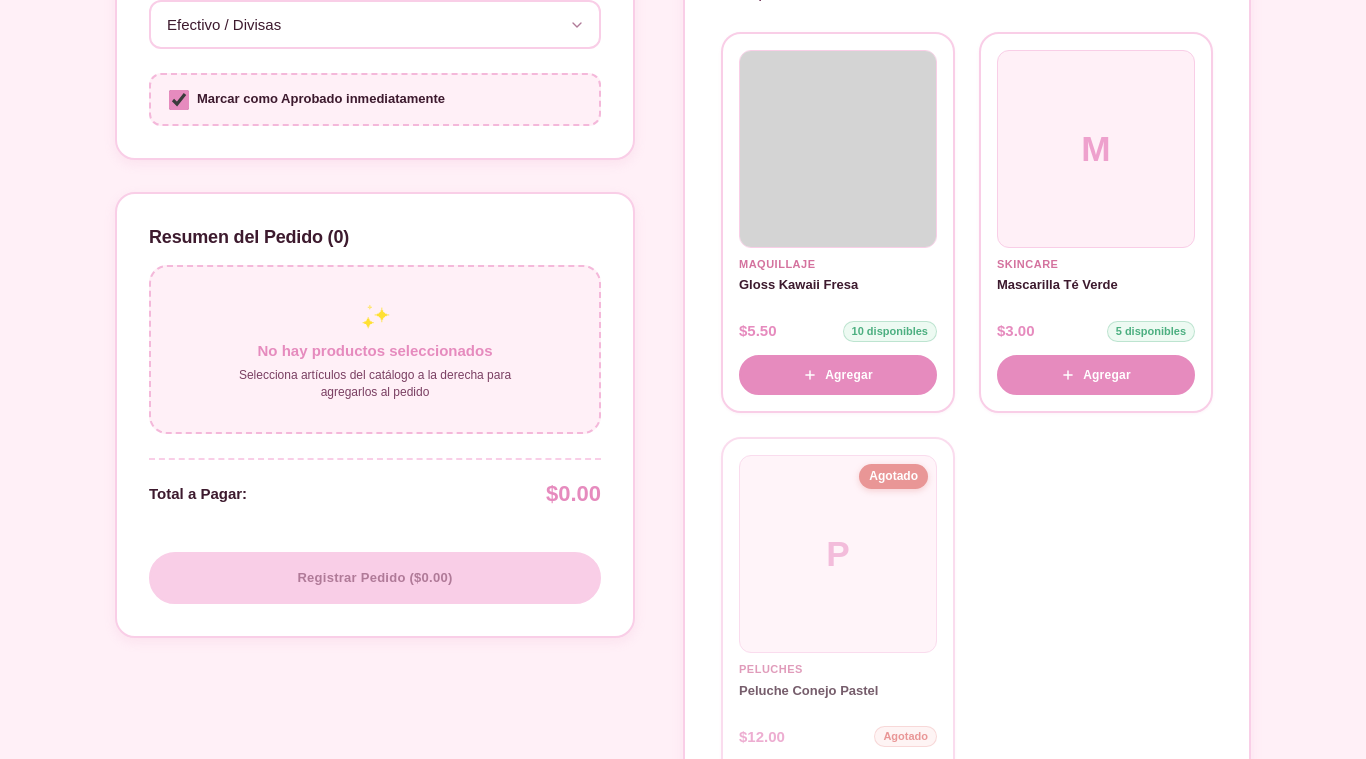
AdminCreateOrderPage › permite agregar productos, cambiar cantidad y calcular el total
The image size is (1366, 759).
(page scrolled)
Expected: the text "Gloss Kawaii Fresa" is shown, top-left (739, 277), bottom-right (858, 292)
Expected: the button "Registrar Pedido ($0.00)" is disabled, top-left (149, 552), bottom-right (601, 604)
Note: Agregar "Gloss Kawaii Fresa" ($5.50)
Click the button with aria-label "agregar gloss kawaii fresa". click: (838, 375)
box: top-left (739, 355), bottom-right (937, 395)
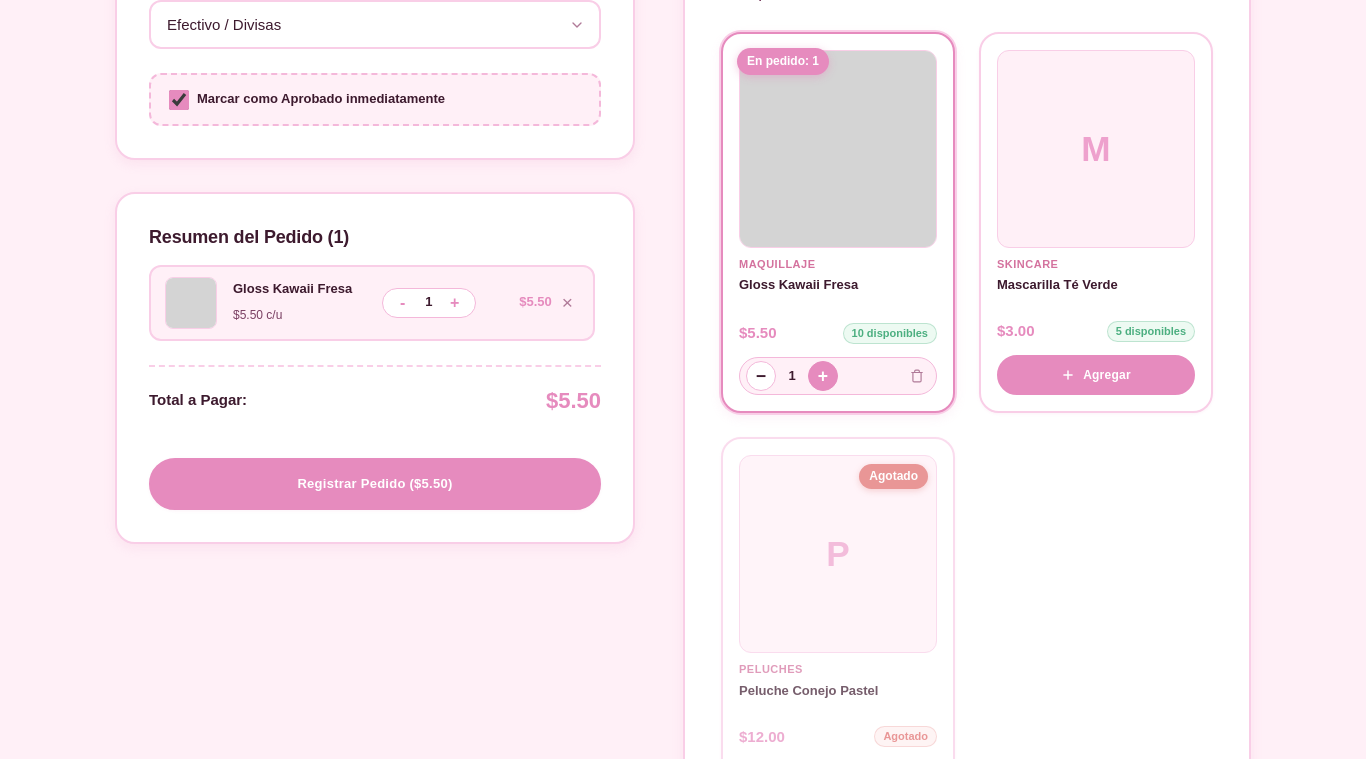
Now the element with test id "selected-item-101" is shown, box top-left (149, 265), bottom-right (595, 341)
Now the text "Gloss Kawaii Fresa" below "Resumen del Pedido (" is shown, box top-left (233, 281), bottom-right (352, 296)
Note: Incrementar cantidad a 2
Click the button named "aumentar cantidad de gloss kawaii fresa". click: (455, 303)
box: top-left (443, 291), bottom-right (467, 315)
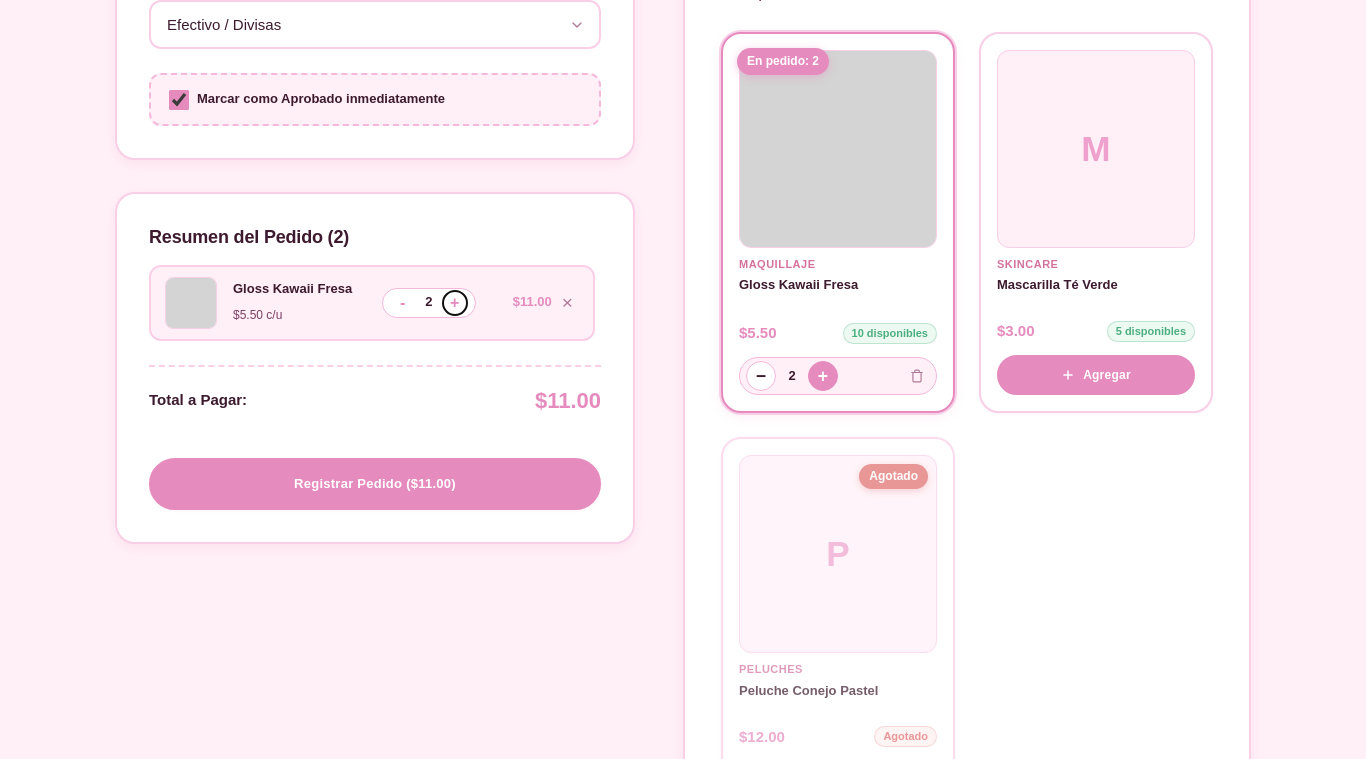
Now the button "Registrar Pedido ($11.00)" is shown, box top-left (149, 458), bottom-right (601, 510)
Note: Agregar "Mascarilla Té Verde" ($3.00)
Click the button with aria-label "agregar mascarilla té verde". click: (1096, 375)
box: top-left (997, 355), bottom-right (1195, 395)
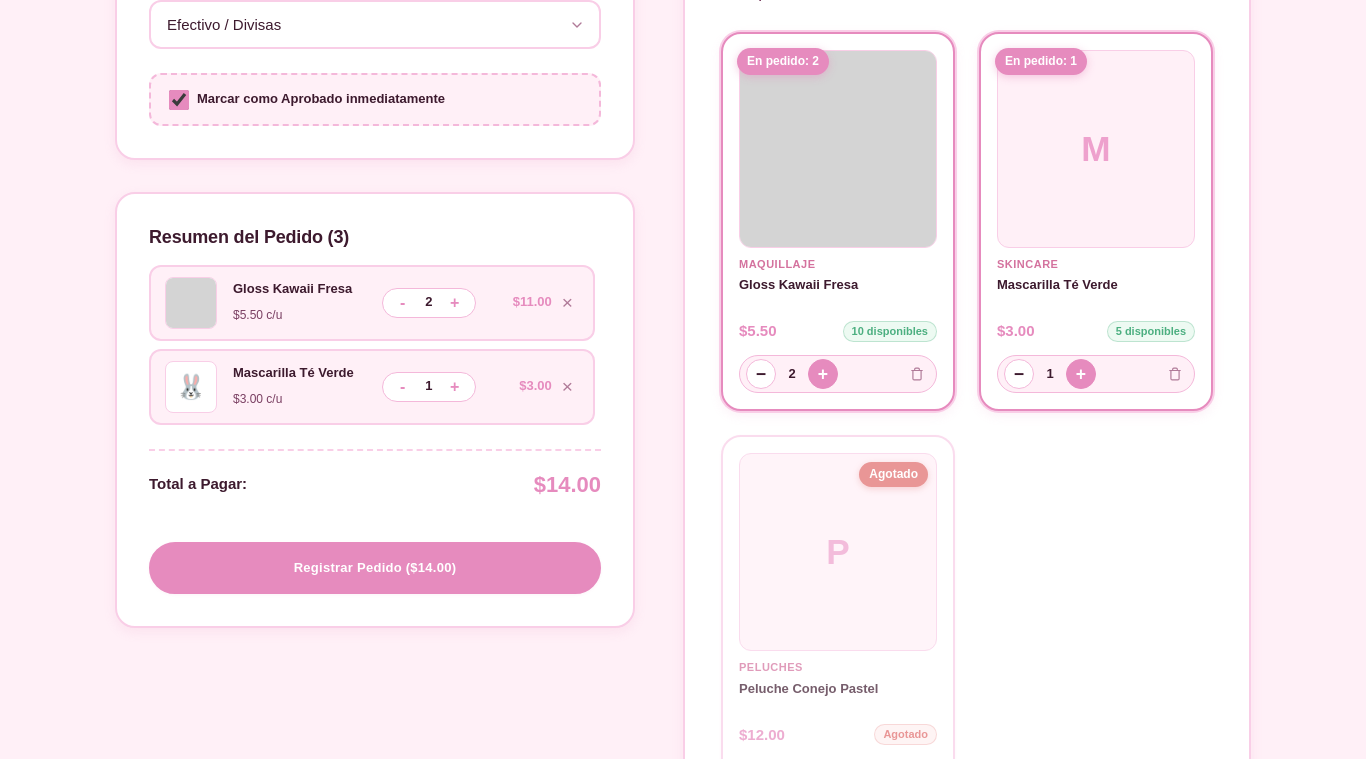
Now the text "$14.00" is shown, box top-left (534, 467), bottom-right (601, 502)
Now the button "Registrar Pedido ($14.00)" is shown, box top-left (149, 542), bottom-right (601, 594)
Note: Eliminar Mascarilla
Click the button named "eliminar mascarilla té verde". click: (567, 387)
box: top-left (556, 373), bottom-right (579, 400)
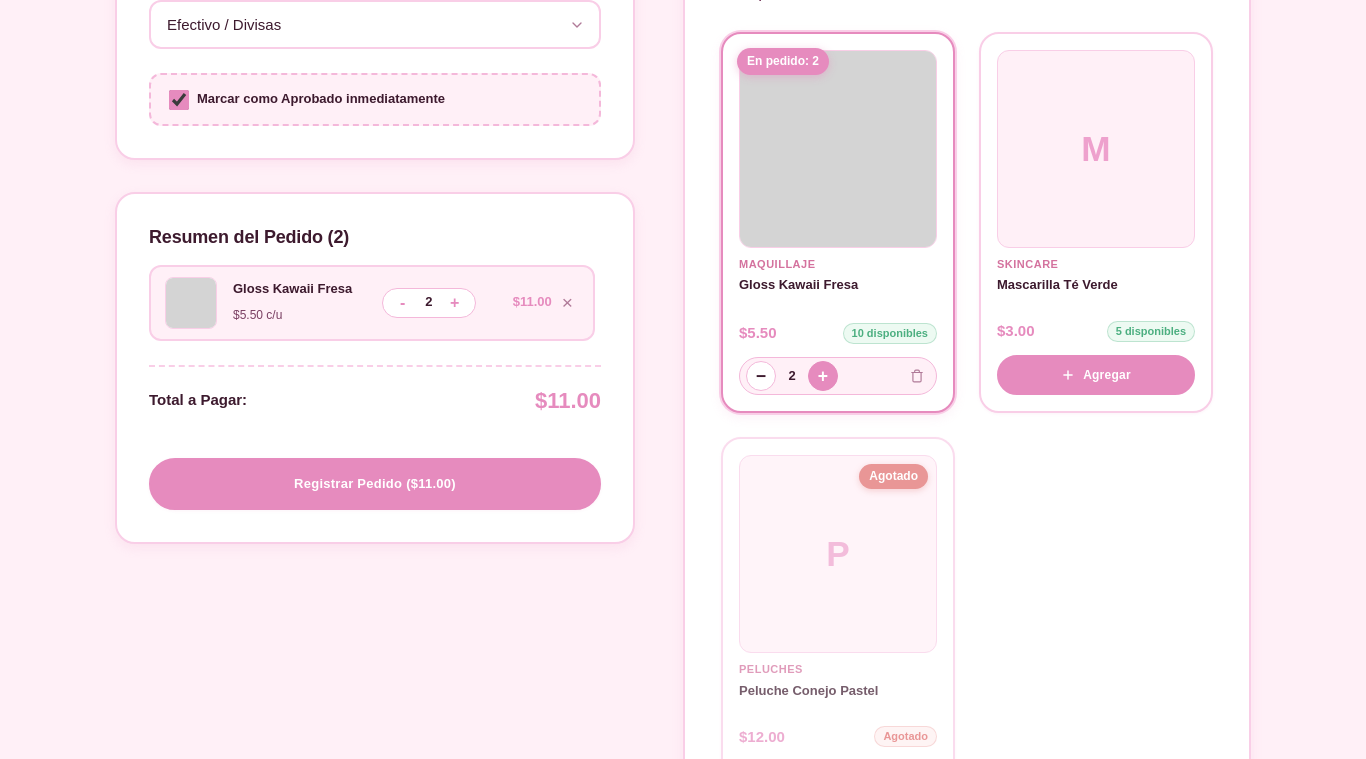
Now the button "Registrar Pedido ($11.00)" is shown, box top-left (149, 458), bottom-right (601, 510)
